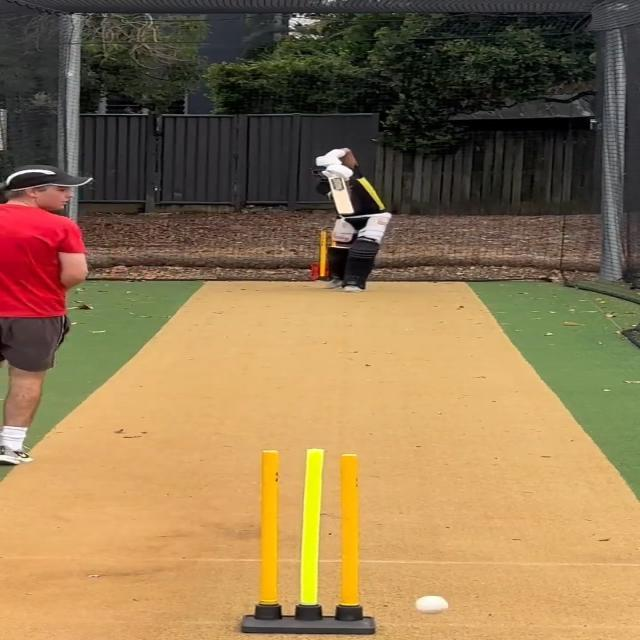ball: (412, 594, 447, 614)
stump: (242, 448, 378, 634)
